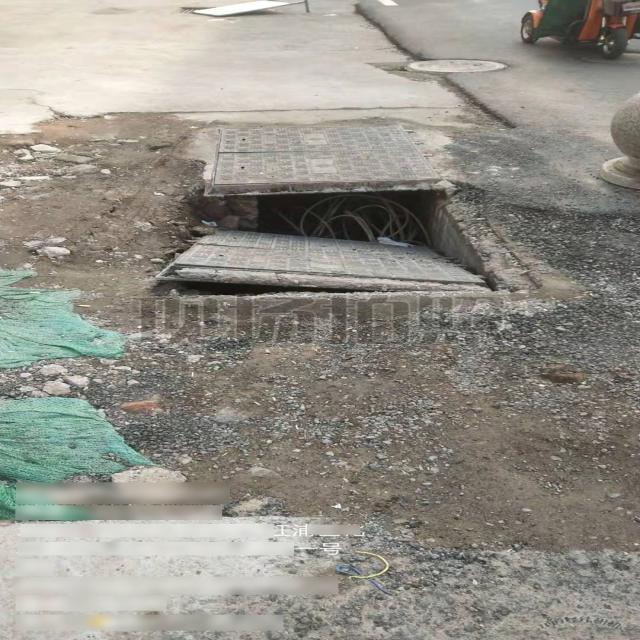Faulty: (152, 119, 541, 301)
